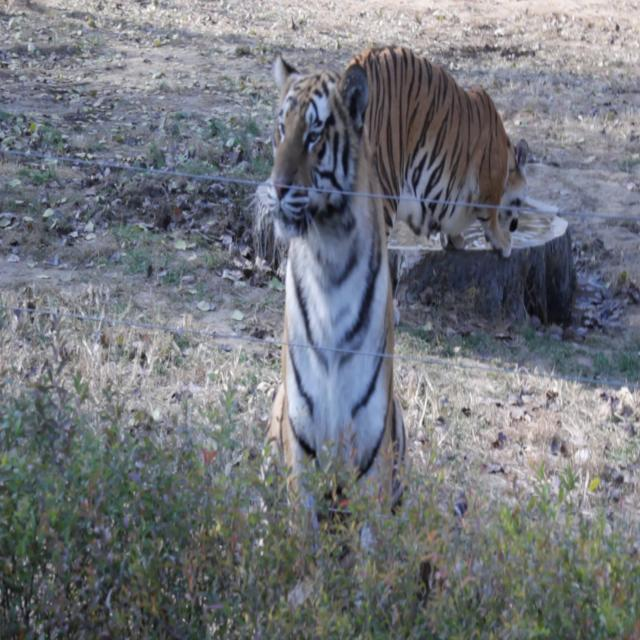Tiger: (252, 47, 407, 542), (359, 40, 532, 251)
